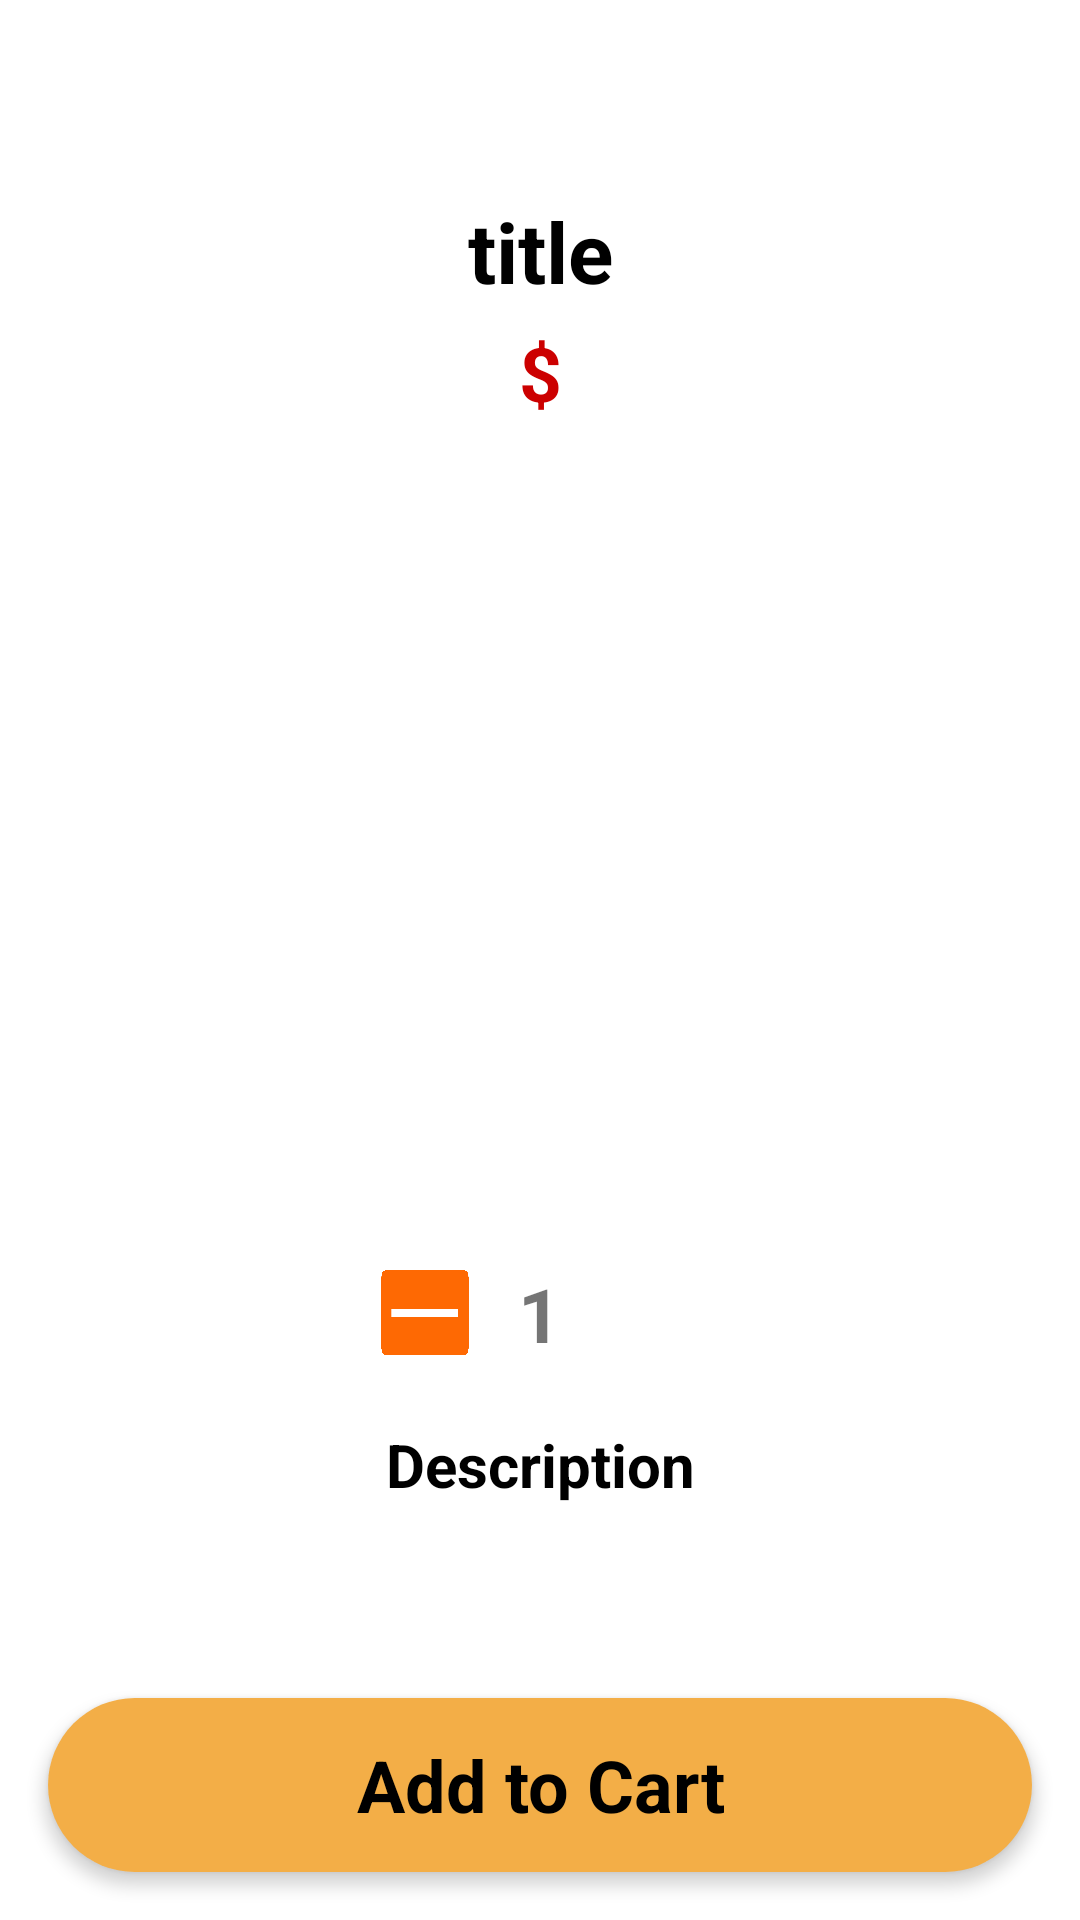

Point at icon controls on the screen. Image size 1080×1920, points as point (x, y).
minus: point (425, 1312)
